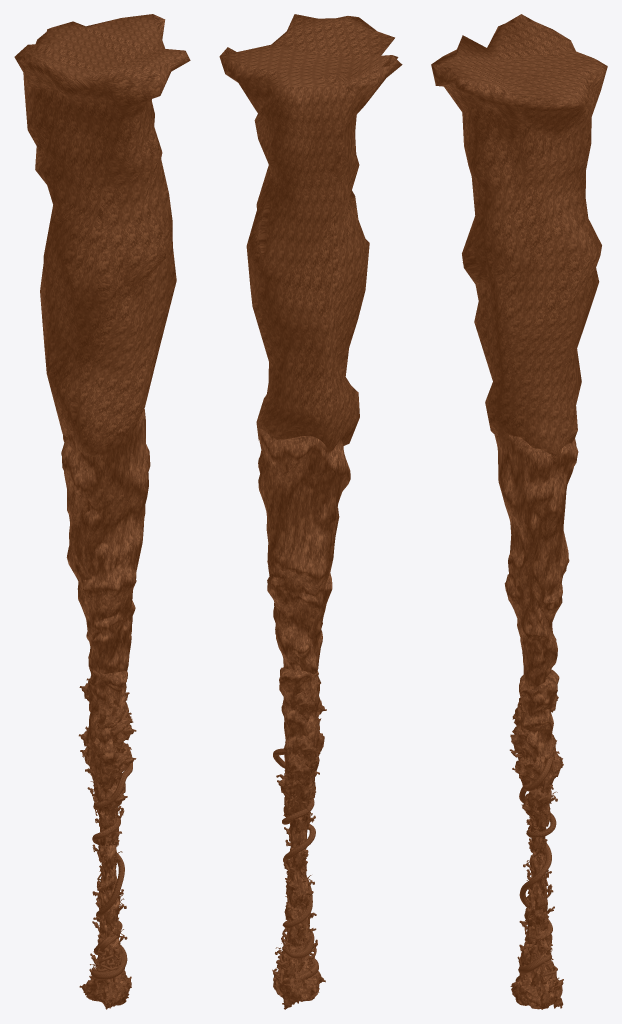
The model's file is aeg277_092.glb.
3 renders of one model, left to right at view 1: azimuth 30°, elevation 25°; view 2: azimuth 150°, elevation 25°; view 3: azimuth 270°, elevation 25°, orthographic. The views are drawn at different scales.
Visible parts, largest first — view 1: mesh[4], mesh[1], mesh[3], mesh[0], mesh[2]; view 2: mesh[4], mesh[1], mesh[3], mesh[0], mesh[2]; view 3: mesh[4], mesh[1], mesh[3], mesh[0], mesh[2].
Part boxes in pixels (x1,y1,x2,y2): mesh[4]: (14, 14, 190, 673); mesh[1]: (88, 668, 130, 1005); mesh[3]: (78, 678, 136, 1009); mesh[0]: (91, 742, 132, 979); mesh[2]: (82, 692, 133, 980); mesh[4]: (219, 14, 402, 690); mesh[1]: (275, 667, 320, 1001); mesh[3]: (273, 687, 326, 1009); mesh[0]: (272, 748, 318, 982); mesh[2]: (273, 718, 319, 987); mesh[4]: (431, 14, 607, 689); mesh[1]: (514, 669, 559, 1009); mesh[3]: (510, 694, 563, 1009); mesh[0]: (518, 756, 557, 986); mesh[2]: (509, 705, 560, 1001).
Size of the model in its own units: 17.12 by 98.26 by 16.61.
Materials: 5 (5 with a texture image).
